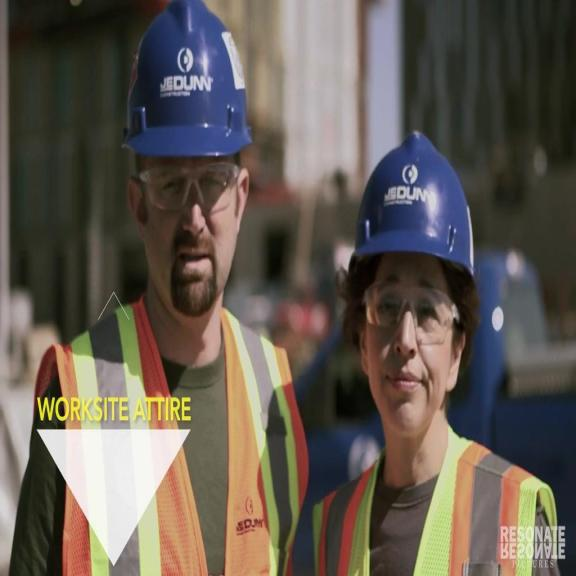safety_vest: (31, 292, 310, 574), (313, 428, 559, 574)
